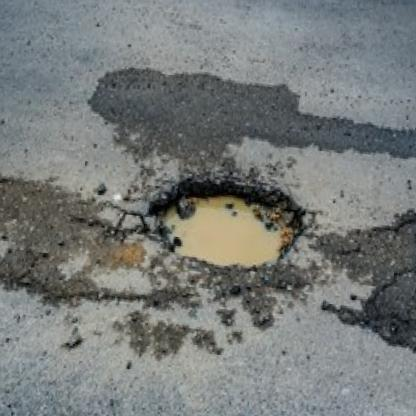pothole: (143, 165, 309, 277)
